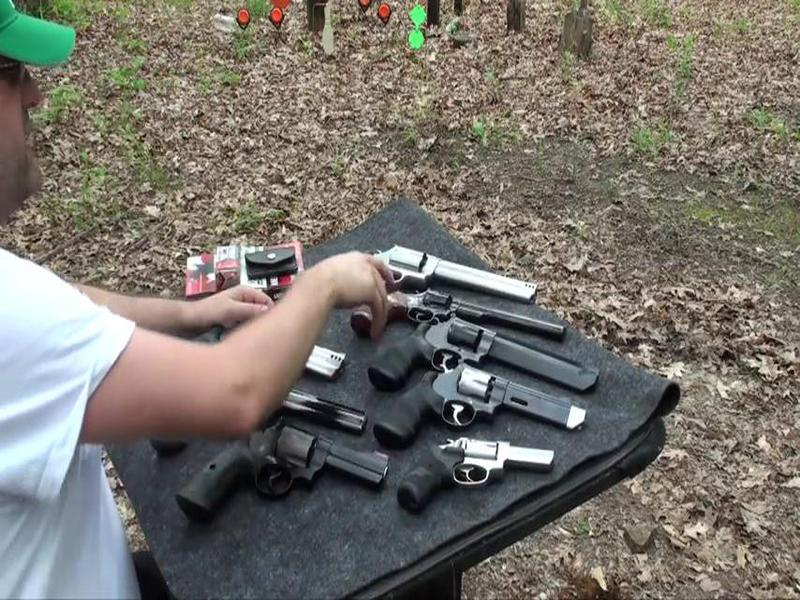Revolver: (191, 428, 397, 525)
